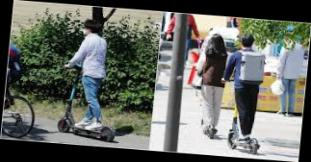nonhelmet: (55, 17, 127, 142), (213, 31, 272, 156)
